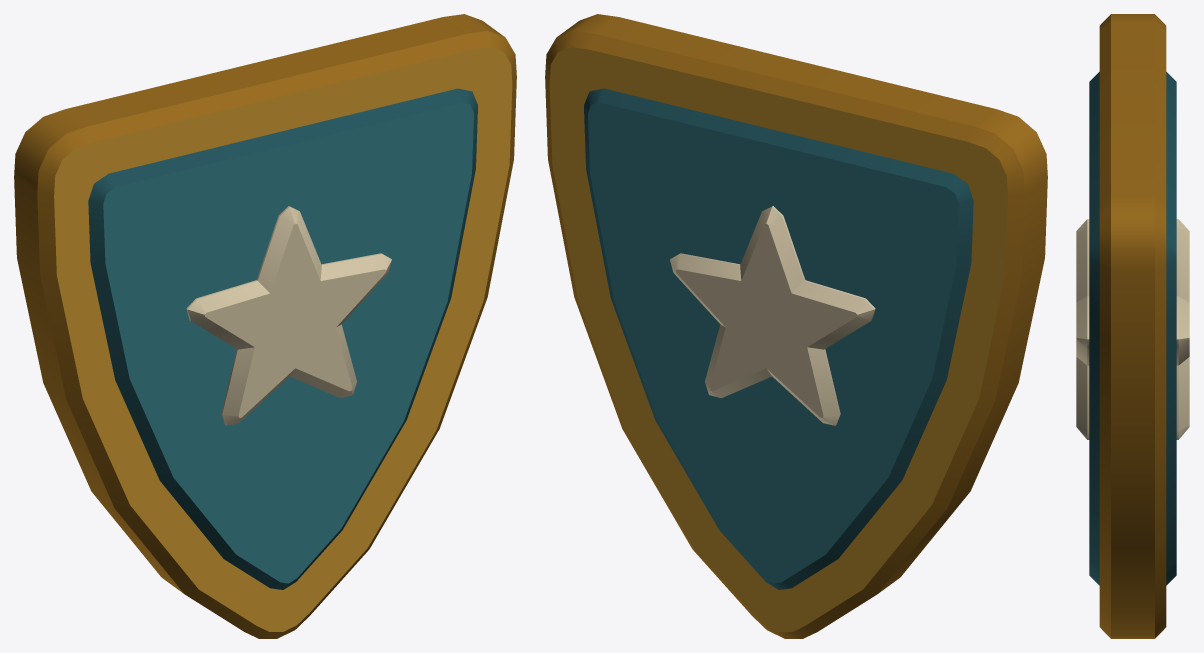
The model's file is Badge_21.glb.
The picture shows the model from 3 angles, left to right: view 1: azimuth 30°, elevation 25°; view 2: azimuth 150°, elevation 25°; view 3: azimuth 270°, elevation 25°; orthographic projection. The views are drawn at different scales.
Visible parts, largest first — view 1: Badge_21; view 2: Badge_21; view 3: Badge_21.
Boxes of the visible parts, box(x1,y1,x2,y2) form: Badge_21: box(14, 14, 516, 638); Badge_21: box(545, 14, 1047, 638); Badge_21: box(1076, 14, 1189, 638).
Size of the model in its own units: 2.03 by 2.26 by 0.44.
